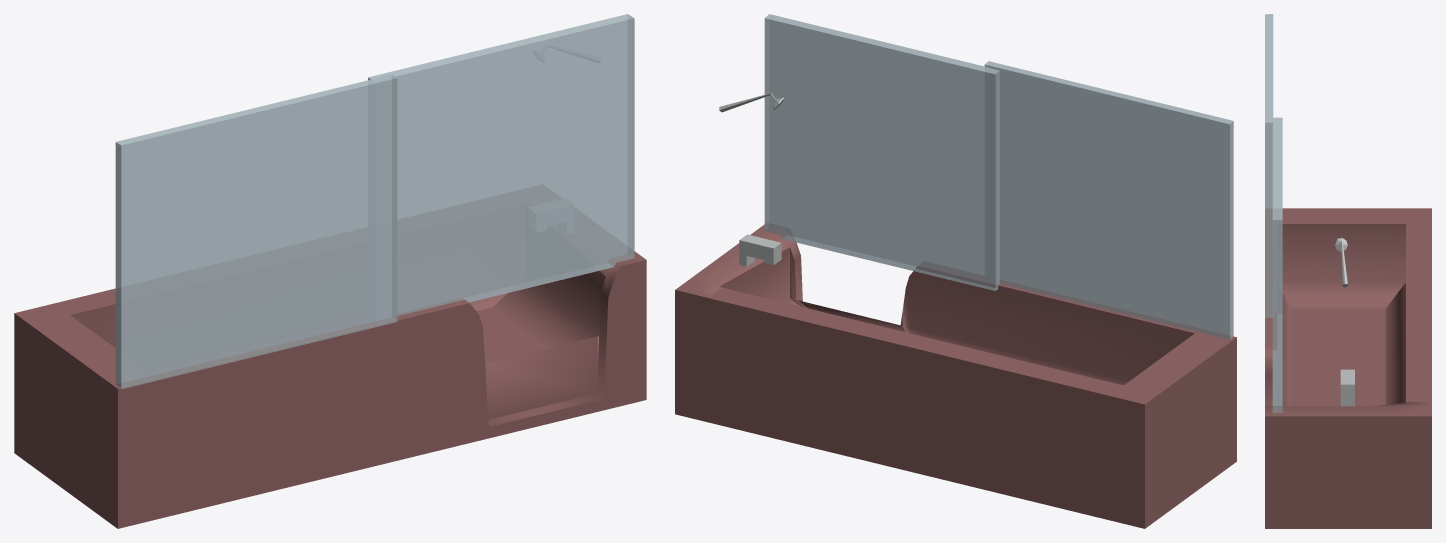
Rendered from ShowerTubFixed001.fbx.
3 renders of one model, left to right at view 1: azimuth 30°, elevation 25°; view 2: azimuth 150°, elevation 25°; view 3: azimuth 270°, elevation 25°, orthographic. The views are drawn at different scales.
Parts seen in each view (by area): view 1: pCube27, pCube29, pasted__pCube29; view 2: pCube27, pCube29, pasted__pCube29, pCube30; view 3: pCube27, pasted__pCube29, pCube29, pCube30, pCube31.
Boxes of the visible parts, <box> form: pCube27: <box>14,251,646,528</box>; pCube29: <box>115,74,397,389</box>; pasted__pCube29: <box>368,14,634,320</box>; pCube27: <box>675,224,1236,528</box>; pCube29: <box>984,61,1233,339</box>; pasted__pCube29: <box>764,14,999,290</box>; pCube30: <box>739,234,781,266</box>; pCube27: <box>1265,208,1431,528</box>; pasted__pCube29: <box>1272,117,1282,413</box>; pCube29: <box>1265,14,1273,318</box>; pCube30: <box>1340,369,1354,406</box>; pCube31: <box>1335,238,1347,287</box>.
Size of the model in its own units: 2.97 by 2.04 by 1.
